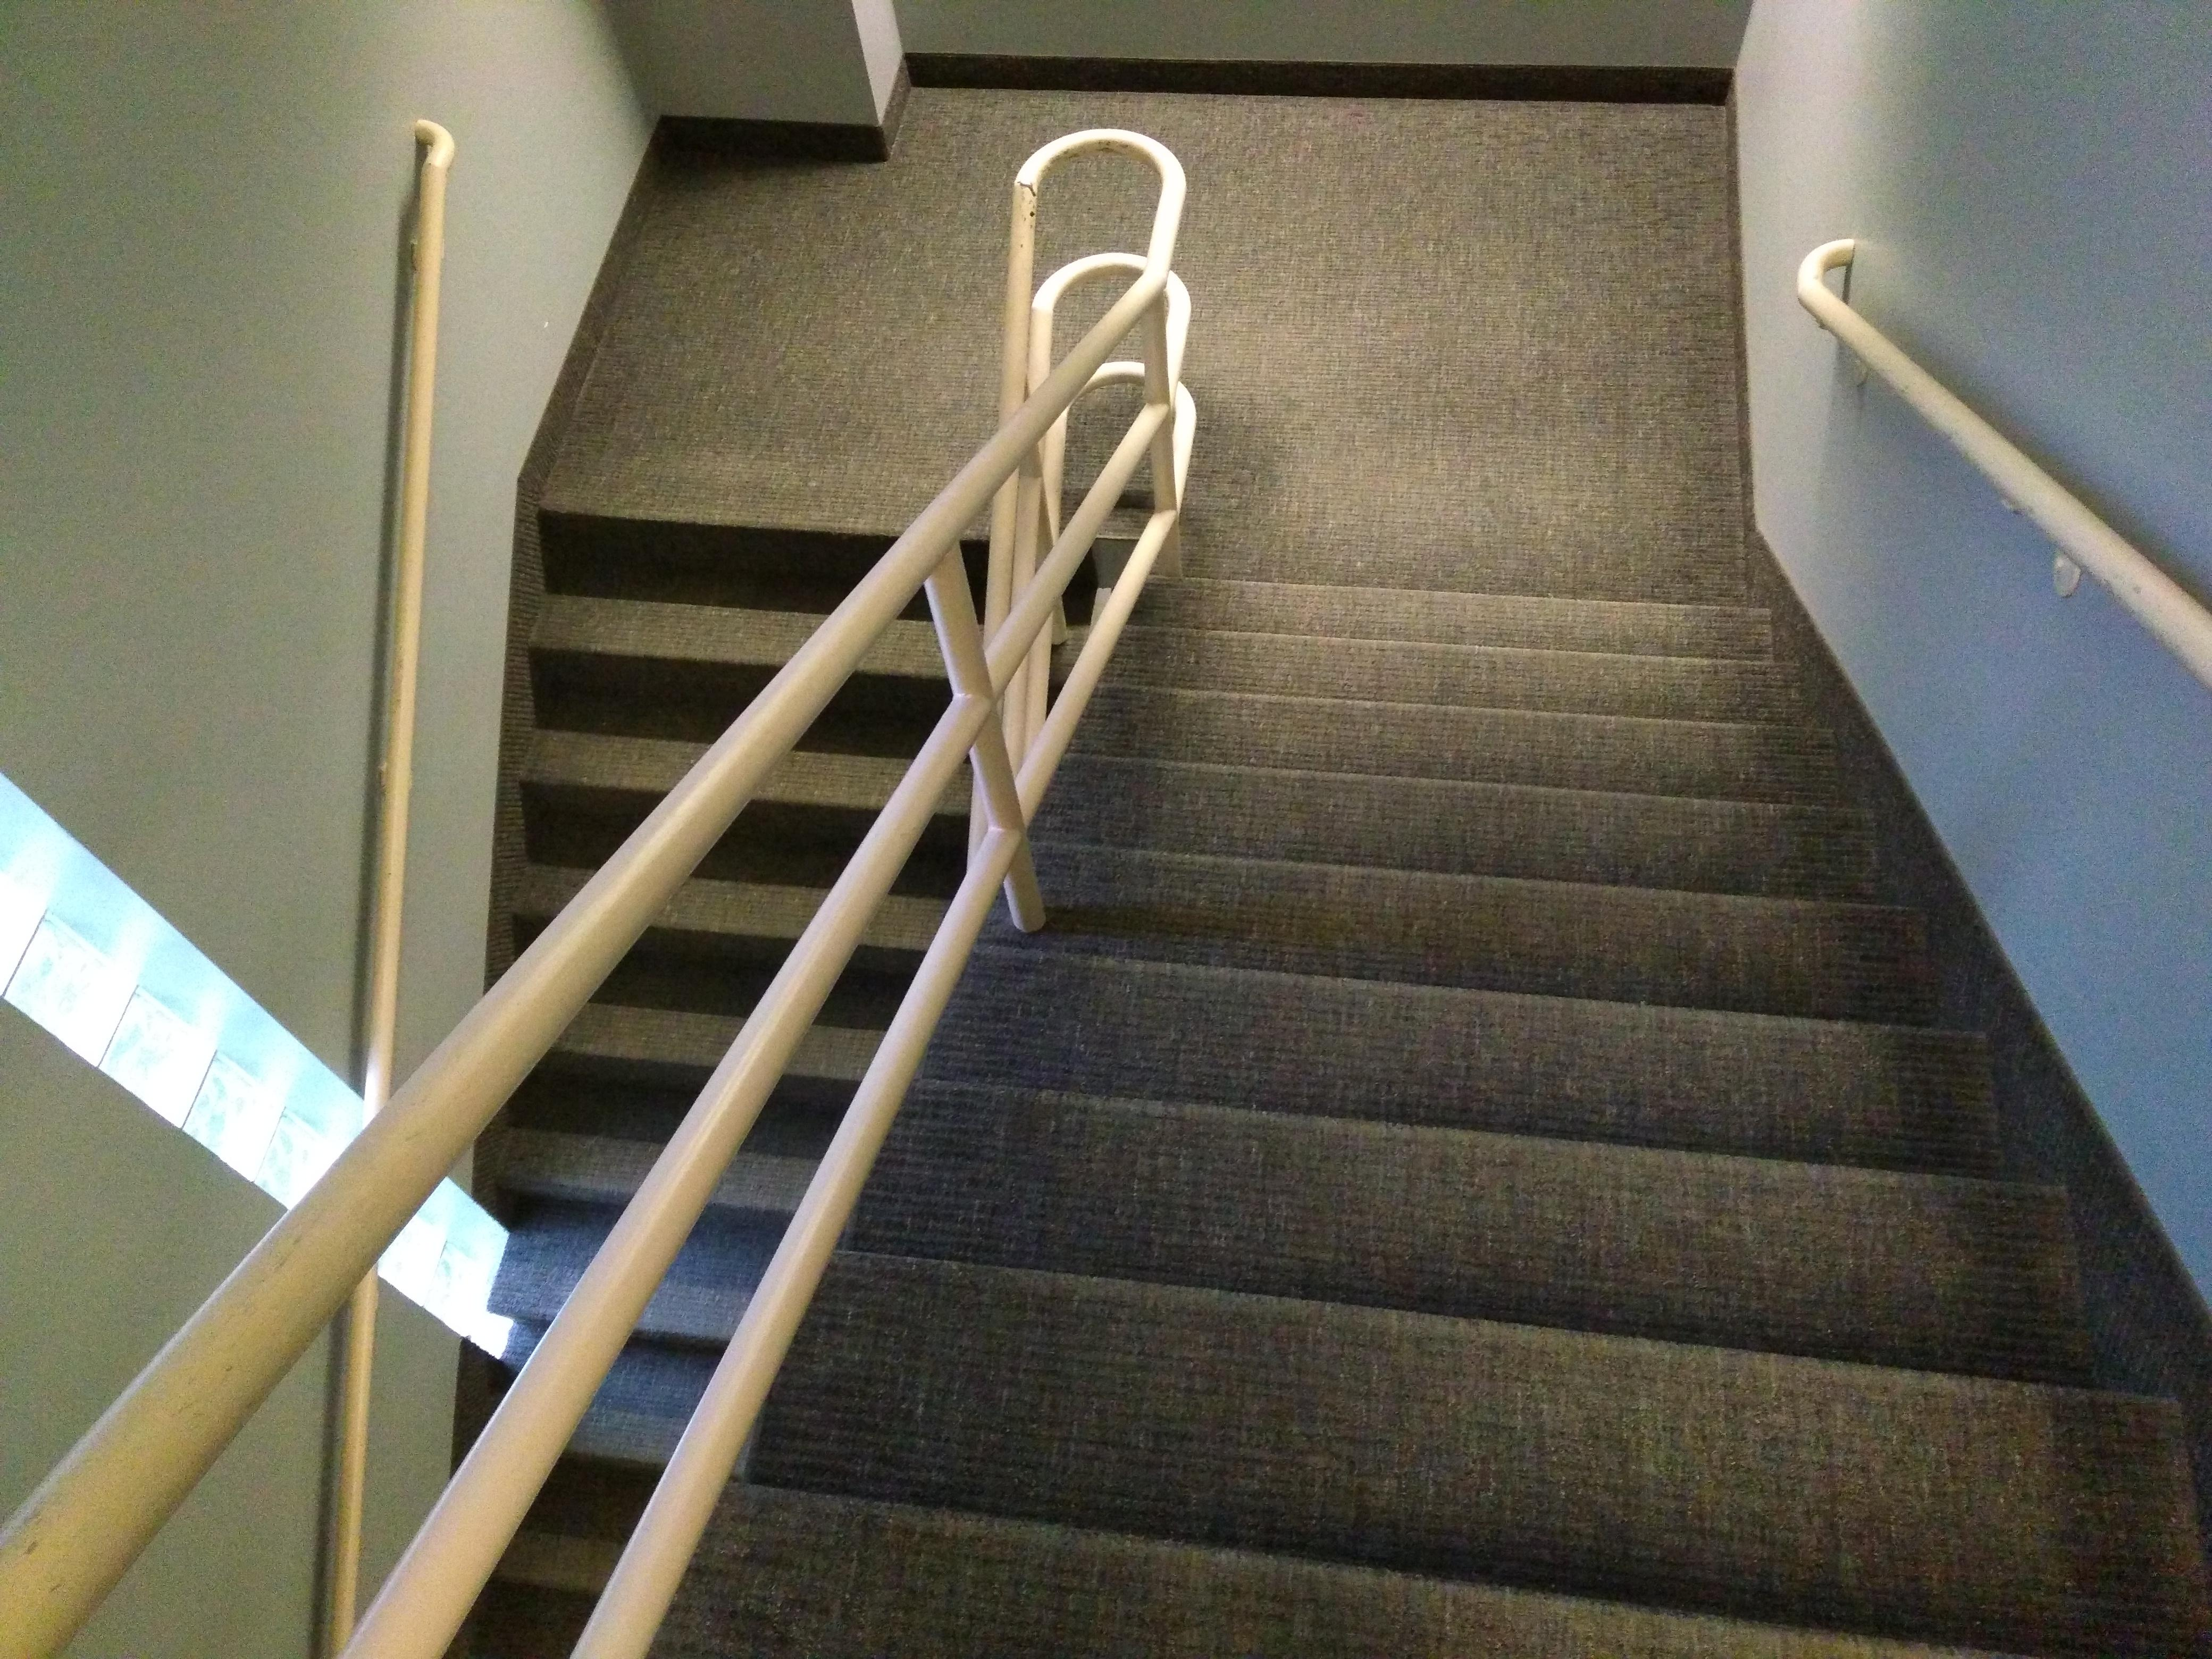stairs_down: (1042, 561, 2048, 1612)
